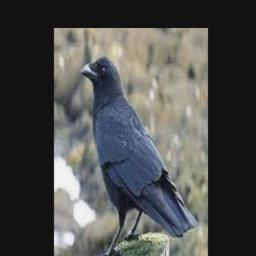Crow: (82, 55, 198, 256)
